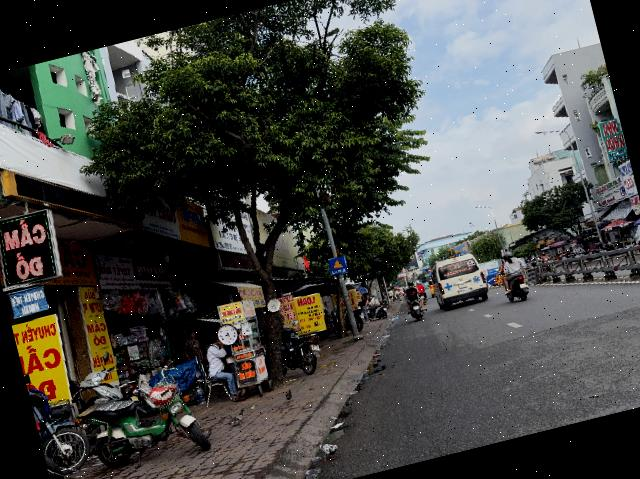khu-vuc-cho-phia-truoc: (328, 255, 348, 276)
